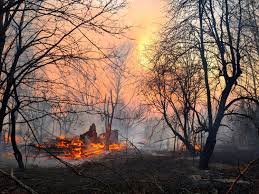fire: (55, 135, 124, 160)
smoke: (104, 94, 171, 150), (18, 91, 108, 131), (215, 116, 245, 151)
